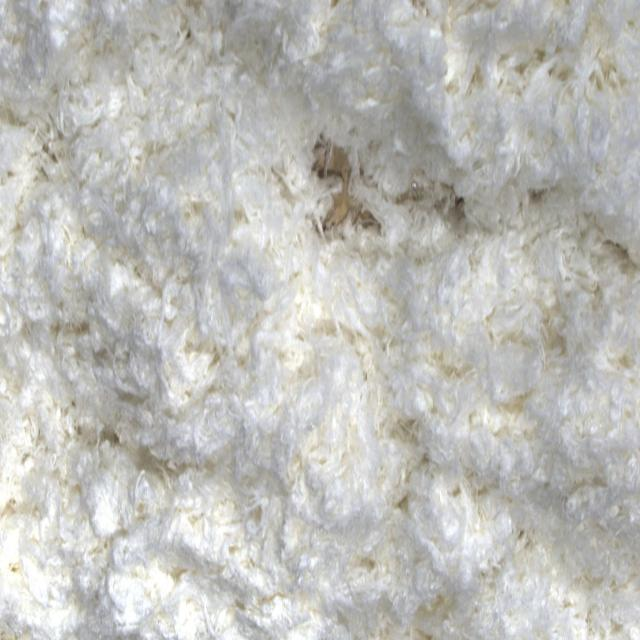dust: (313, 129, 367, 235)
